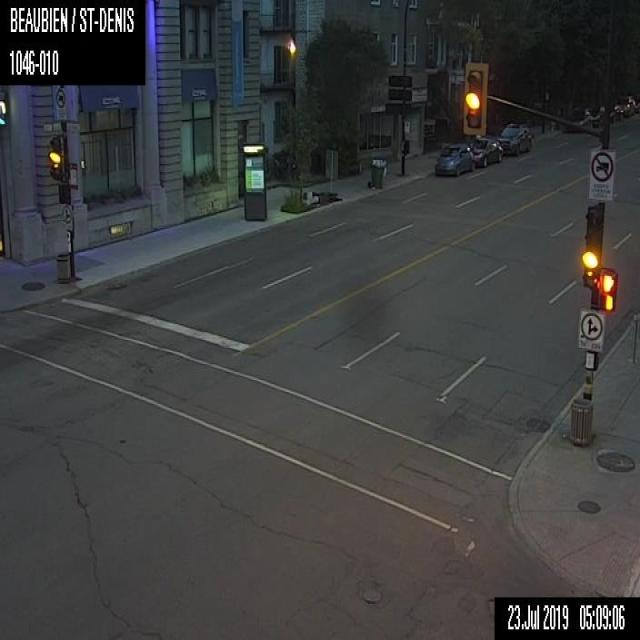vehicle: (434, 142, 474, 178), (498, 122, 534, 154), (470, 135, 503, 167), (561, 106, 590, 130), (618, 94, 635, 116), (606, 102, 623, 122), (589, 105, 604, 126)
